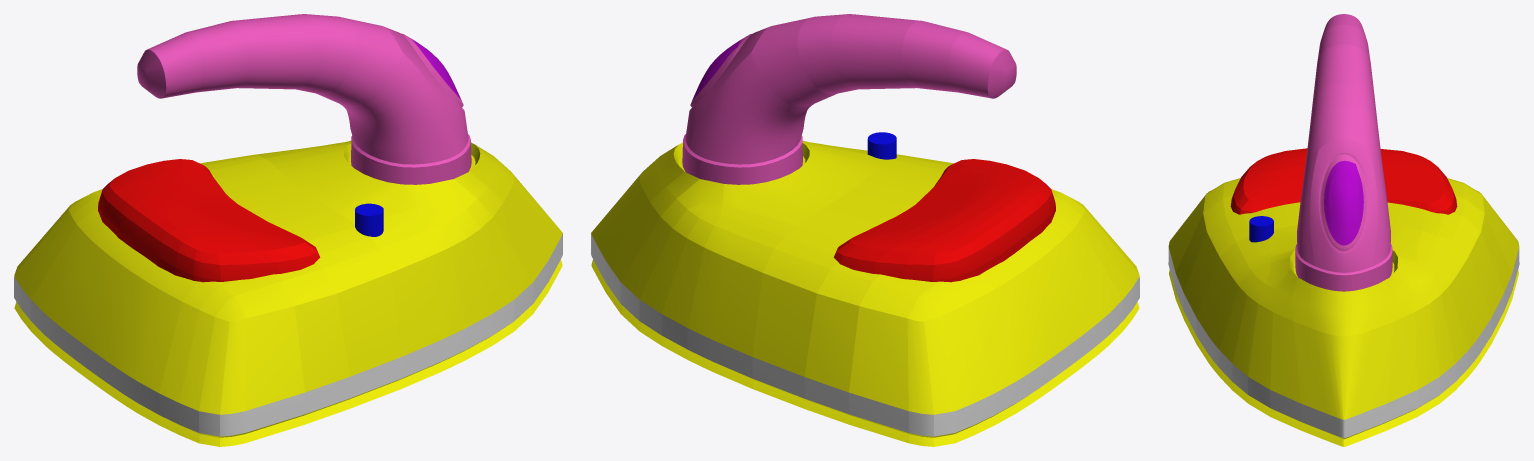
Rendered from iron.fbx.
3 renders of one model, left to right at view 1: azimuth 30°, elevation 25°; view 2: azimuth 150°, elevation 25°; view 3: azimuth 270°, elevation 25°, orthographic. The views are drawn at different scales.
Visible parts, largest first — view 1: polySurface93, polySurface92, polySurface95, pCylinder5; view 2: polySurface93, polySurface92, polySurface95, pCylinder5; view 3: polySurface93, polySurface92, polySurface95, pCylinder5.
Boxes of the visible parts, x1,y1,x2,y2 form: polySurface93: (14,140,562,446); polySurface92: (137,14,471,184); polySurface95: (98,159,320,282); pCylinder5: (355,203,383,236); polySurface93: (591,140,1139,446); polySurface92: (682,14,1016,184); polySurface95: (833,159,1055,282); pCylinder5: (867,132,896,159); polySurface93: (1168,178,1519,446); polySurface92: (1295,14,1392,291); polySurface95: (1230,148,1457,214); pCylinder5: (1249,216,1273,242).
Bounding box in the file's own units: 9.96 × 6.44 × 7.57.
